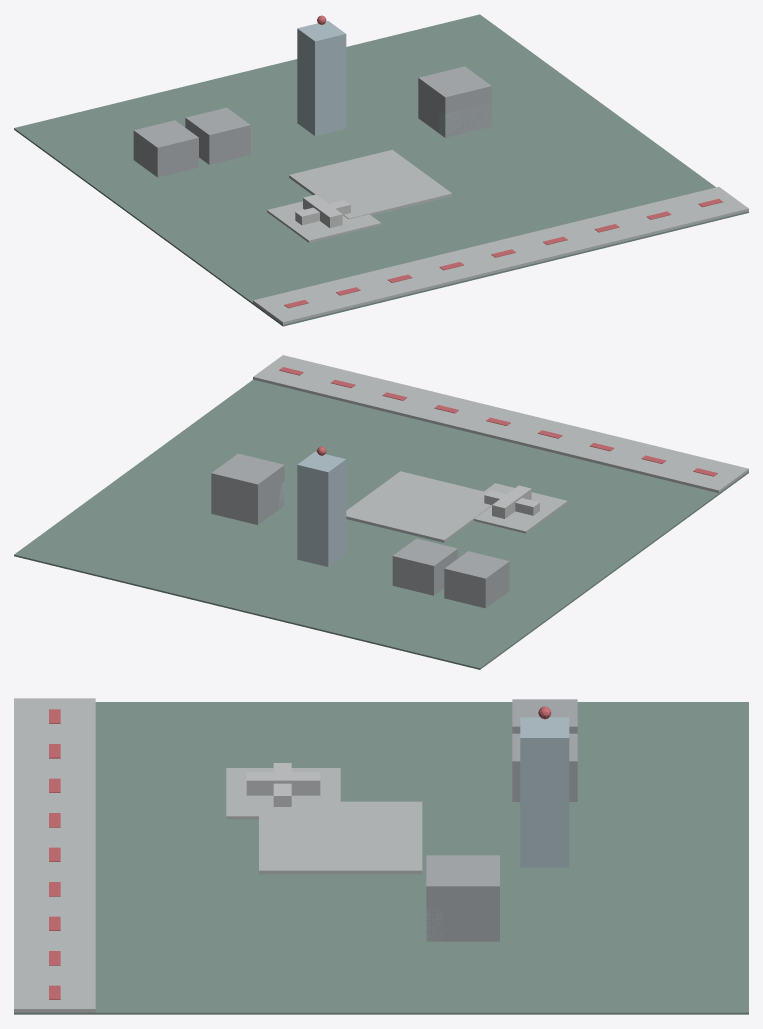
File: stage_06.glb
The picture shows the model from 3 angles, top to bottom: view 1: azimuth 30°, elevation 25°; view 2: azimuth 150°, elevation 25°; view 3: azimuth 270°, elevation 25°; orthographic projection. The views are drawn at different scales.
Visible parts, largest first — view 1: geometry_0; view 2: geometry_0; view 3: geometry_0.
Part boxes in pixels (<box>): geometry_0: <box>14,14,748,326</box>; geometry_0: <box>14,355,748,669</box>; geometry_0: <box>14,698,748,1014</box>.
Size of the model in its own units: 9 by 2.06 by 9.
